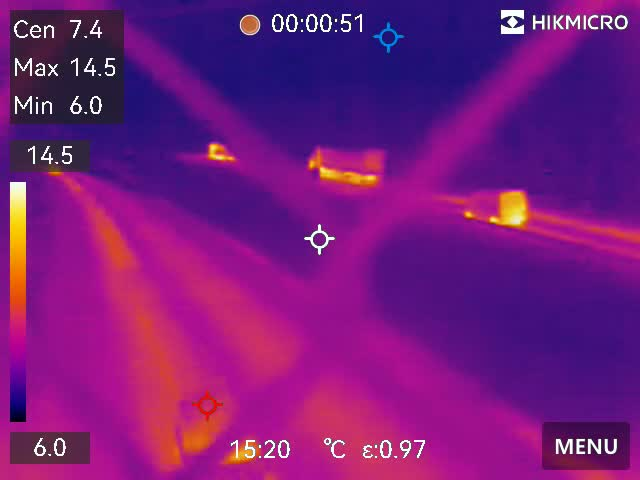heavyTruck: (305, 144, 387, 185), (461, 189, 531, 226)
